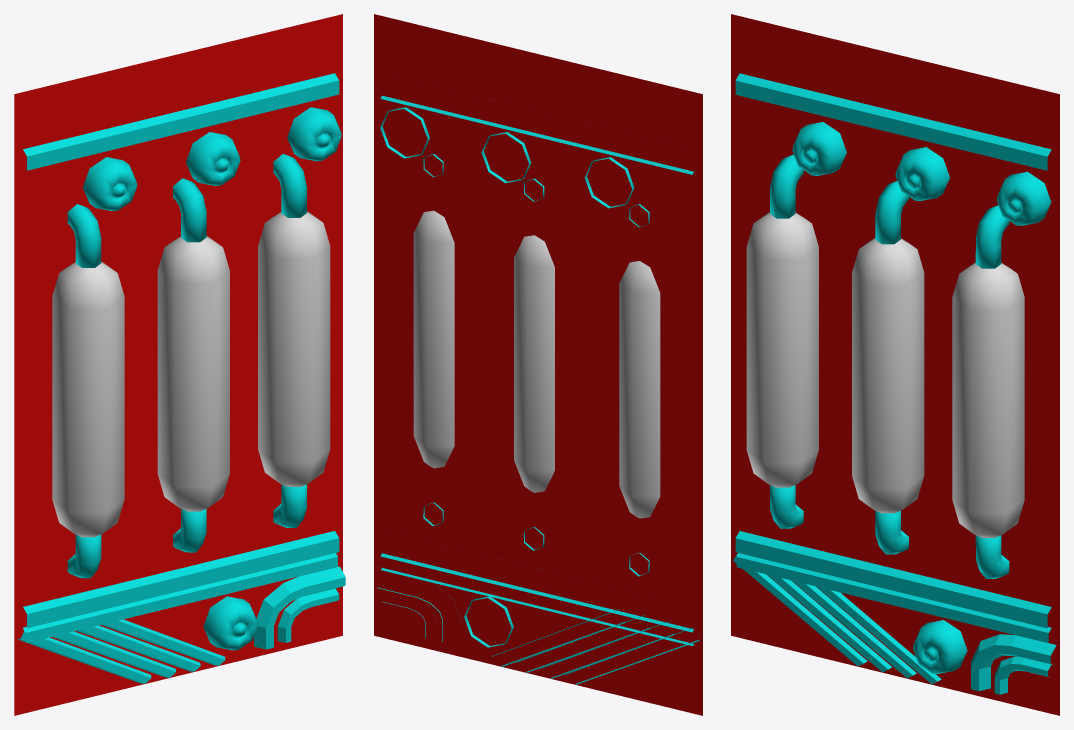
The model's file is FuseboxInterior.fbx.
The picture shows the model from 3 angles, left to right: view 1: azimuth 30°, elevation 25°; view 2: azimuth 150°, elevation 25°; view 3: azimuth 330°, elevation 25°; orthographic projection.
Parts seen in each view (by area): view 1: Plane.003, Plane.007, Plane.008, Plane.010; view 2: Plane.003, Plane.008, Plane.010, Plane.007; view 3: Plane.003, Plane.010, Plane.008, Plane.007.
Part boxes in pixels (x1=…): Plane.003: x1=14, y1=14, x2=345, y2=715; Plane.007: x1=157, y1=236, x2=229, y2=511; Plane.008: x1=52, y1=261, x2=124, y2=537; Plane.010: x1=258, y1=211, x2=330, y2=486; Plane.003: x1=374, y1=14, x2=702, y2=715; Plane.008: x1=619, y1=261, x2=660, y2=518; Plane.010: x1=413, y1=210, x2=454, y2=468; Plane.007: x1=514, y1=235, x2=554, y2=492; Plane.003: x1=731, y1=14, x2=1059, y2=715; Plane.010: x1=952, y1=262, x2=1024, y2=537; Plane.008: x1=746, y1=212, x2=818, y2=487; Plane.007: x1=852, y1=238, x2=924, y2=513.
Bounding box in the file's own units: 0.1227 × 1.16 × 0.6442.
